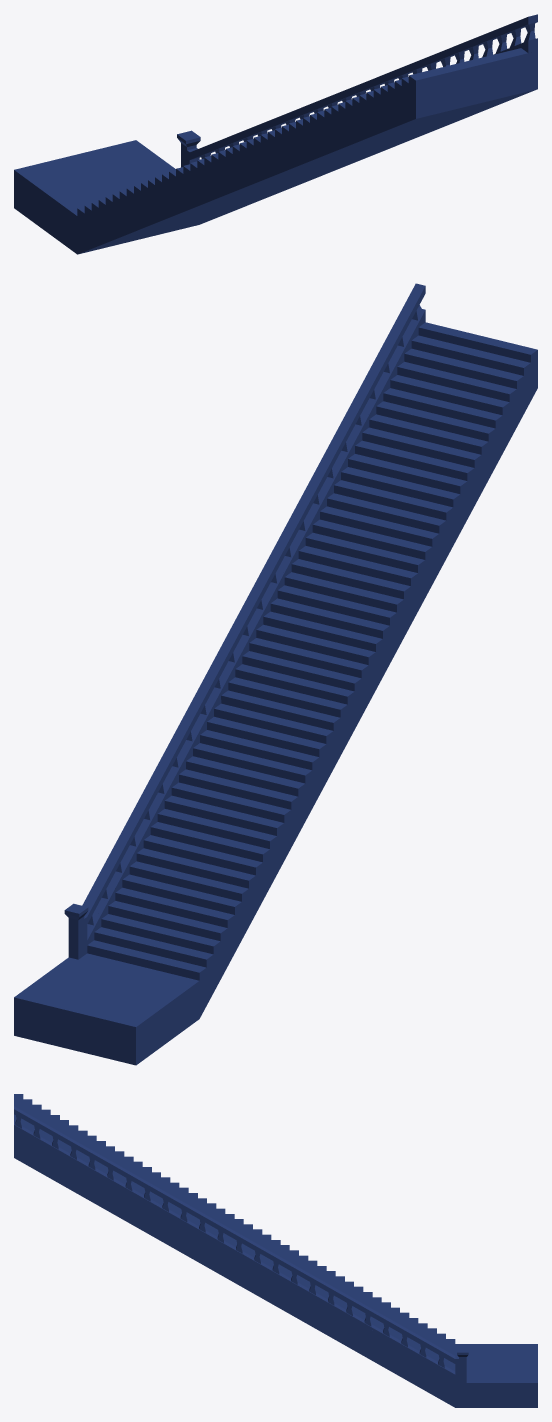
3 renders of one model, top to bottom at view 1: azimuth 30°, elevation 25°; view 2: azimuth 150°, elevation 25°; view 3: azimuth 270°, elevation 25°, orthographic. The views are drawn at different scales.
Visible parts, largest first — view 1: Test; view 2: Test; view 3: Test.
Boxes of the visible parts, x1,y1,x2,y2 form: Test: (14, 14, 537, 254); Test: (14, 283, 537, 1065); Test: (14, 1094, 537, 1407).
Size of the model in its own units: 3.4 by 11.95 by 19.
